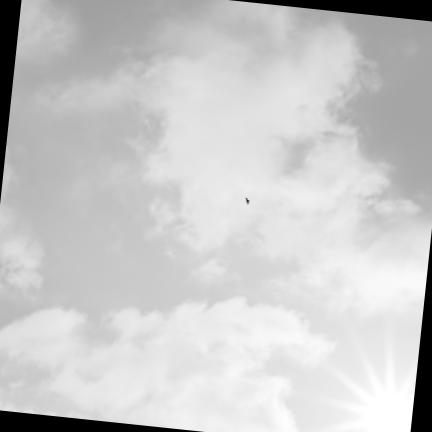Shahed: (244, 198, 250, 206)
